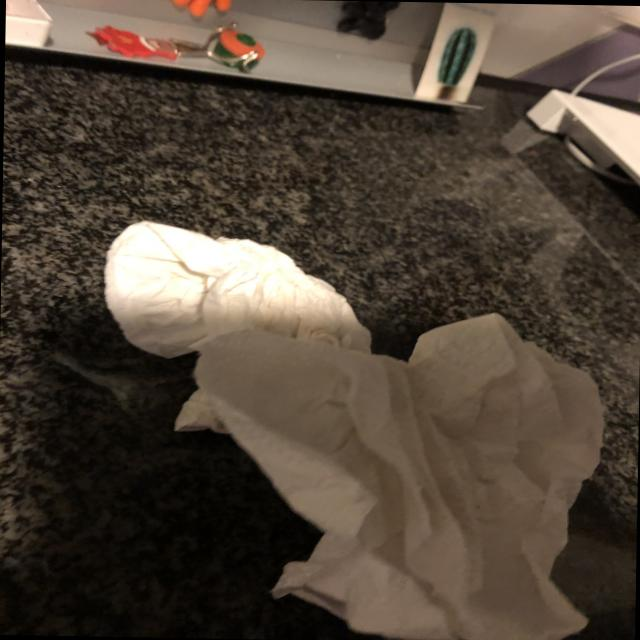organic waste: (186, 301, 609, 640), (94, 218, 382, 436)
